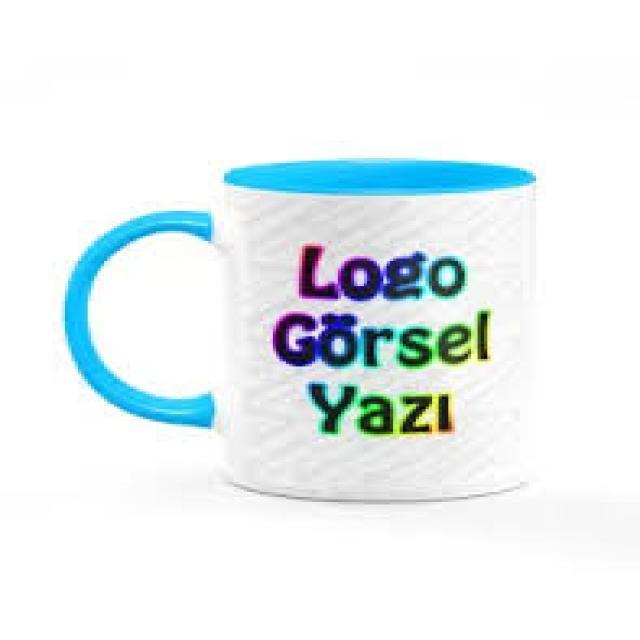taza: (60, 156, 538, 500)
